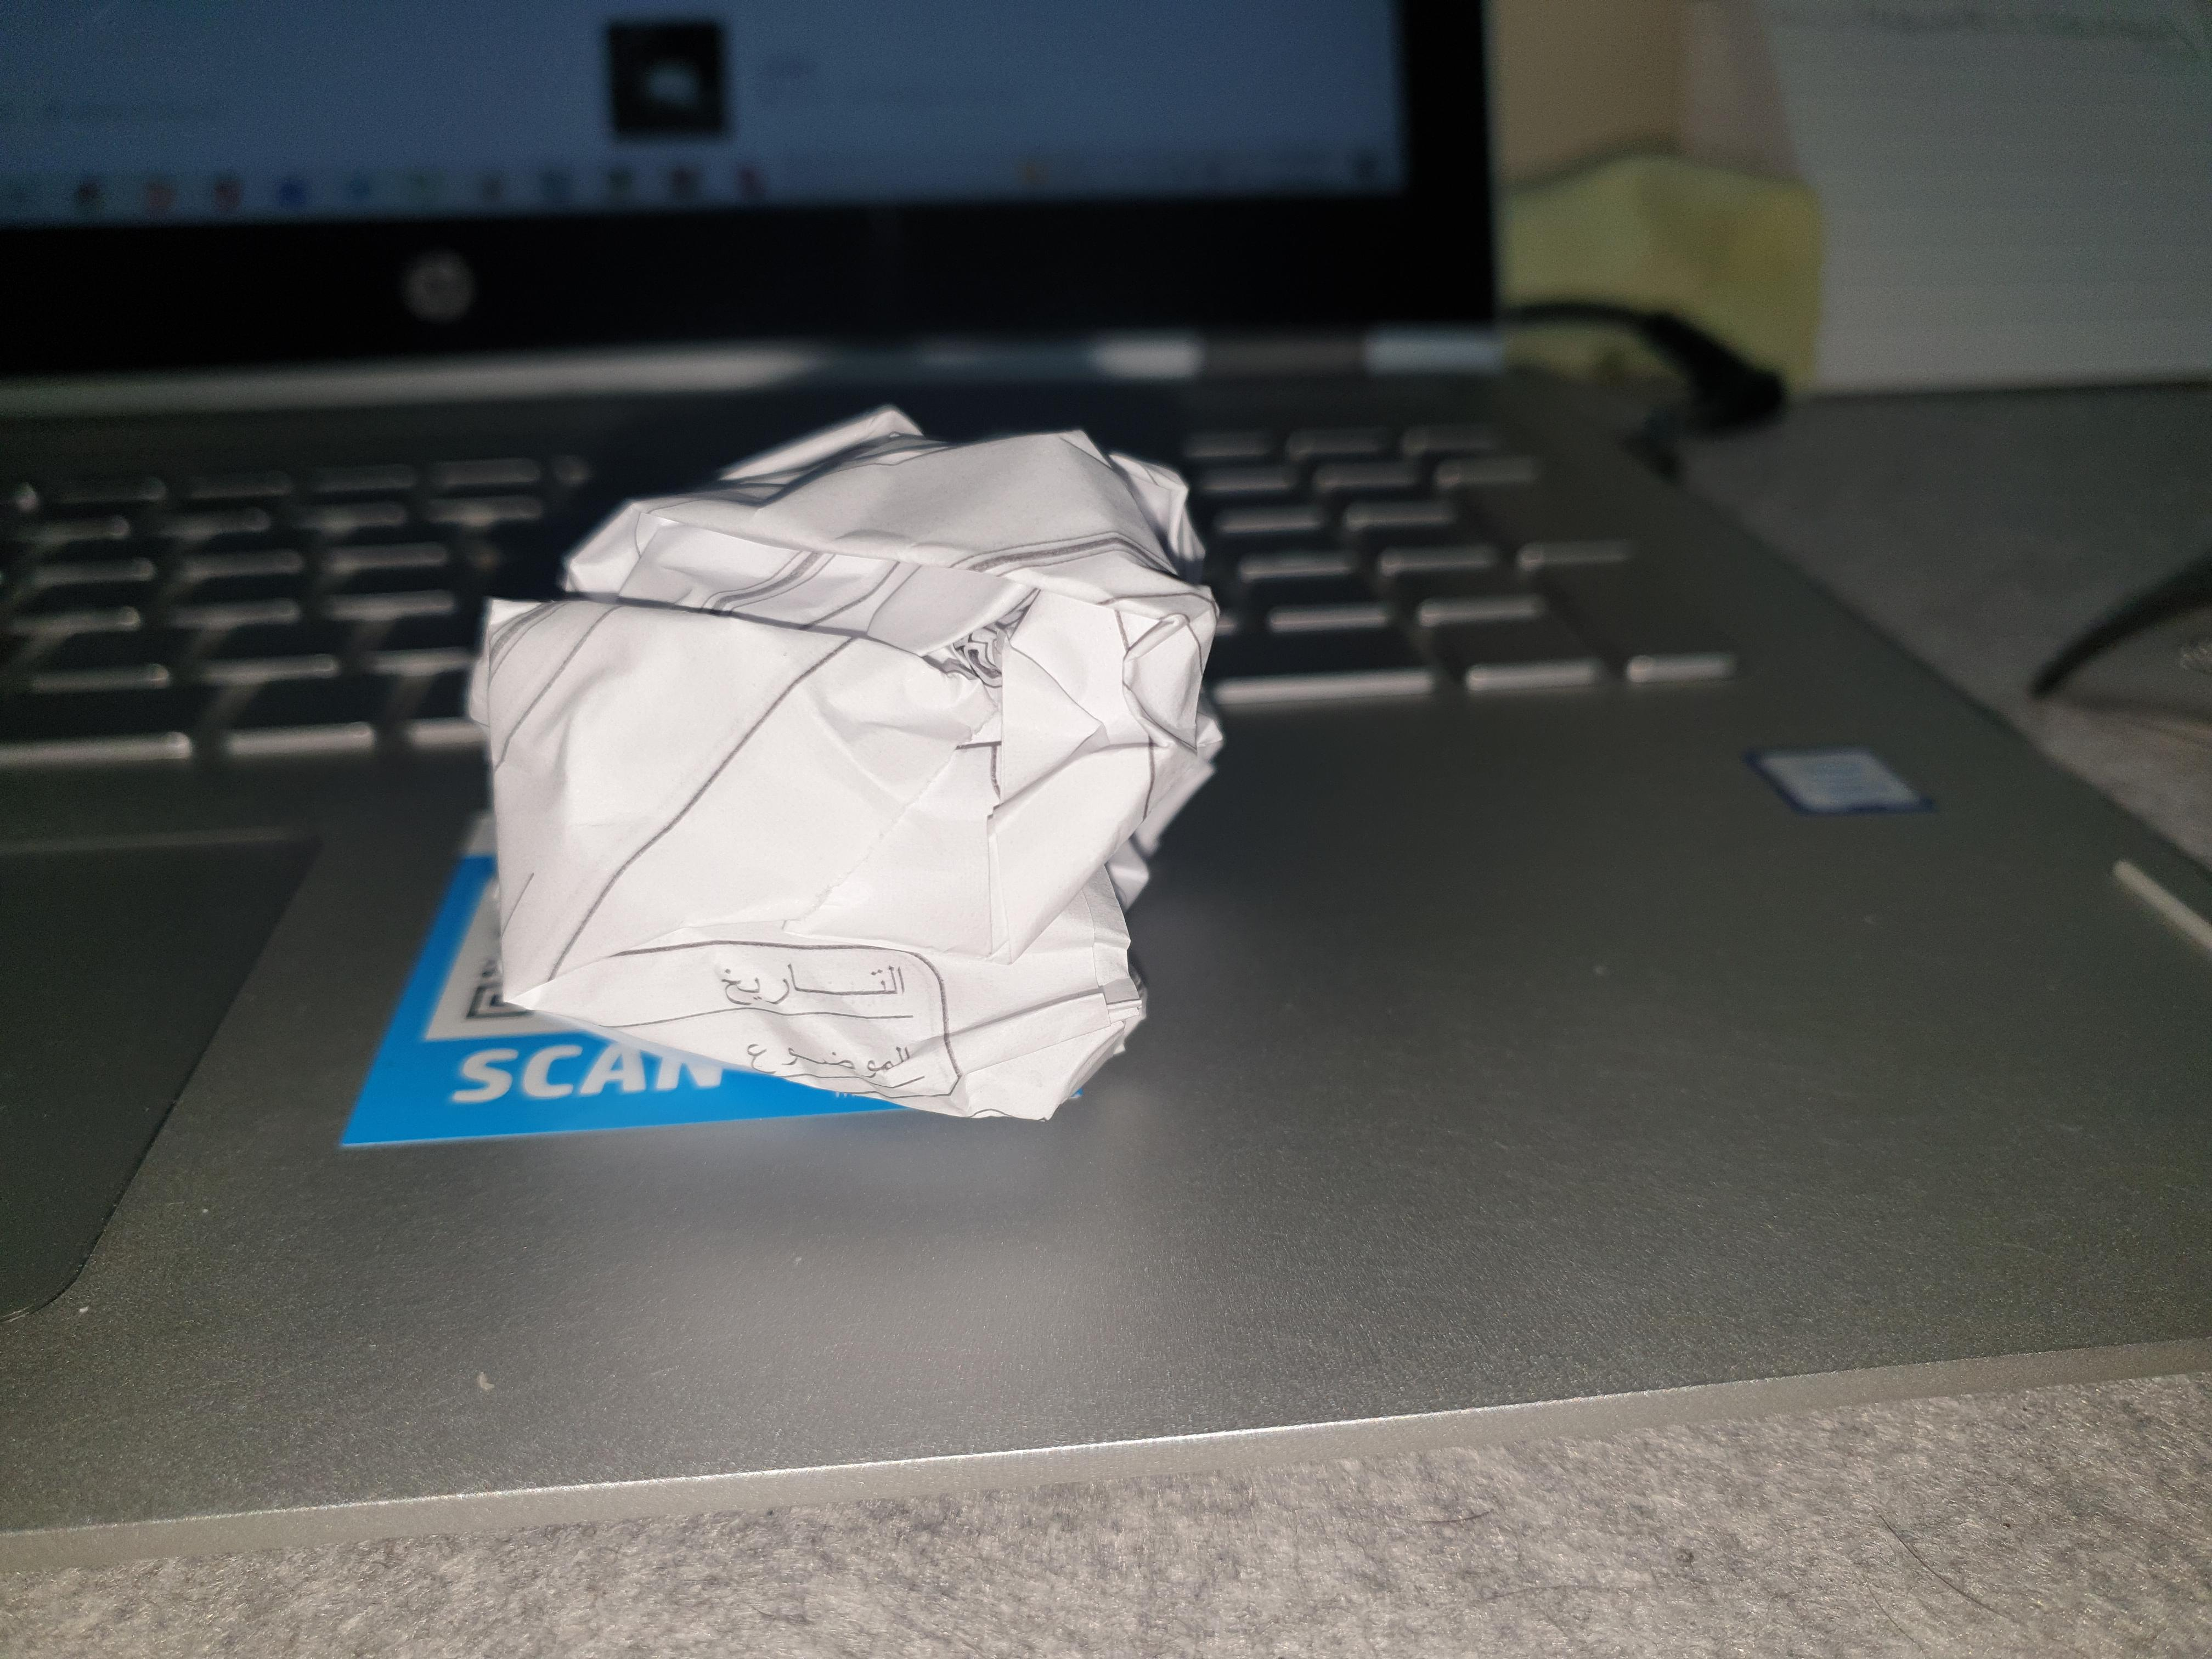Paper: (453, 387, 1255, 1169)
